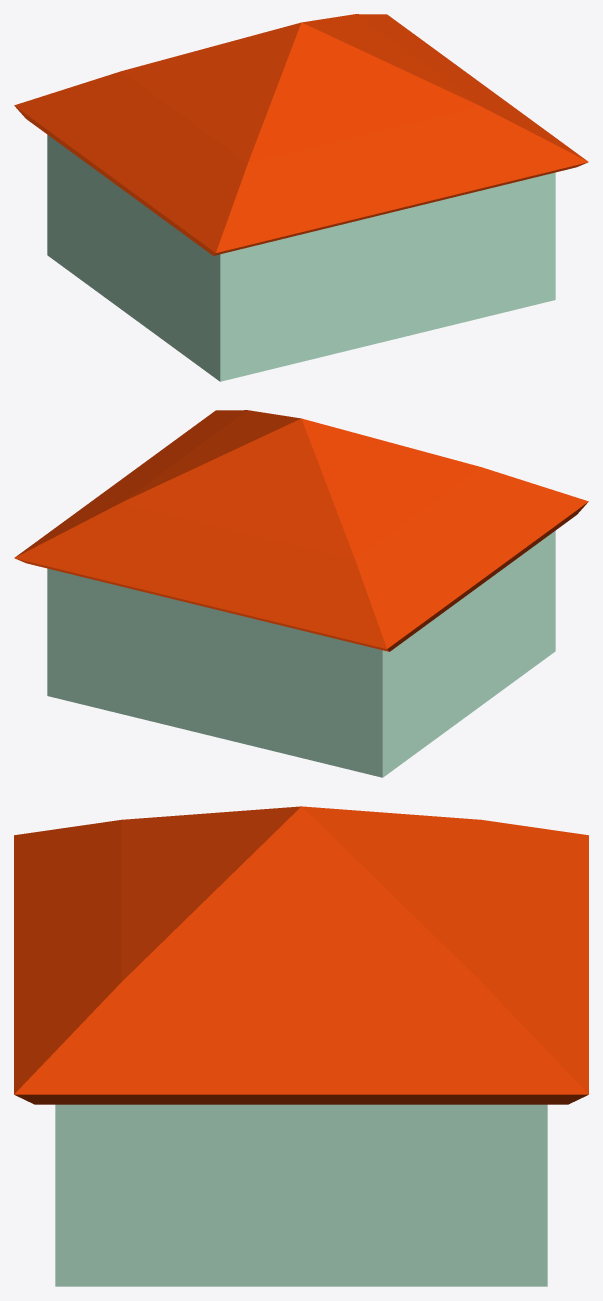
File: EVblendyesil.fbx
3 renders of one model, top to bottom at view 1: azimuth 30°, elevation 25°; view 2: azimuth 150°, elevation 25°; view 3: azimuth 270°, elevation 25°, orthographic. The views are drawn at different scales.
Visible parts, largest first — view 1: Cone; view 2: Cone; view 3: Cone.
Part boxes in pixels (bbox=[...]): Cone: bbox=[14, 14, 588, 381]; Cone: bbox=[14, 410, 588, 777]; Cone: bbox=[14, 806, 588, 1286].
Size of the model in its own units: 337 by 220 by 316.
